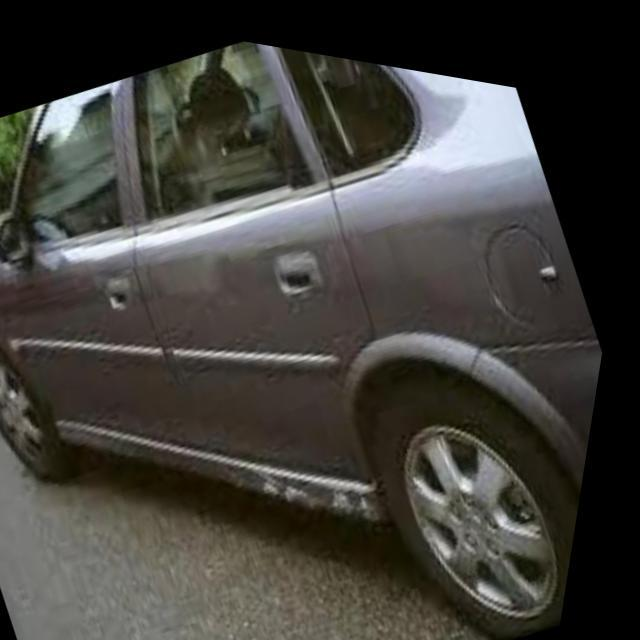rub: (265, 455, 393, 506)
